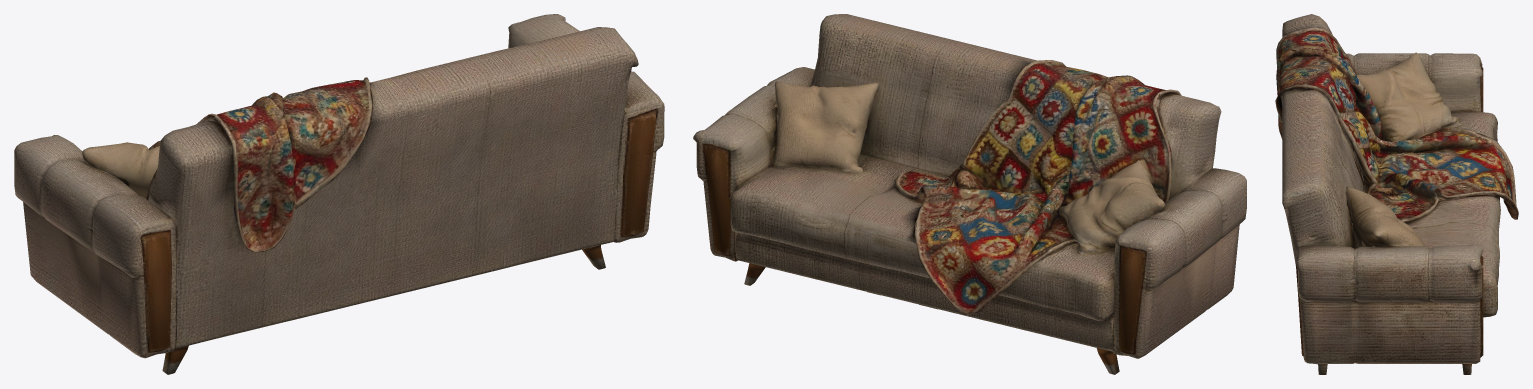
File: sofa.glb
3 views of the same model, side by side, from view 1: azimuth 30°, elevation 25°; view 2: azimuth 150°, elevation 25°; view 3: azimuth 270°, elevation 25° (orthographic). The views are drawn at different scales.
Parts seen in each view (by area): view 1: tripo_node_1369c98e-90b5-45fc-9931-603cf; view 2: tripo_node_1369c98e-90b5-45fc-9931-603cf; view 3: tripo_node_1369c98e-90b5-45fc-9931-603cf.
Boxes of the visible parts, x1=… form: tripo_node_1369c98e-90b5-45fc-9931-603cf: x1=14, y1=14, x2=664, y2=374; tripo_node_1369c98e-90b5-45fc-9931-603cf: x1=693, y1=14, x2=1246, y2=374; tripo_node_1369c98e-90b5-45fc-9931-603cf: x1=1275, y1=14, x2=1518, y2=374.
Bounding box in the file's own units: 0.998 × 0.4355 × 0.4824.
1 material, 1 textured.
